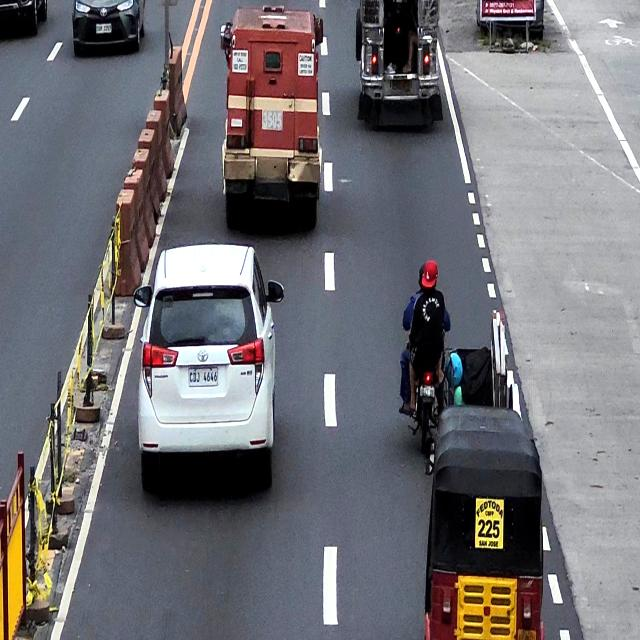Car: (133, 244, 283, 501), (222, 5, 325, 233)
E-bike: (423, 404, 543, 640)
Jeep: (354, 0, 442, 131)
License-Plate: (188, 369, 219, 388), (420, 385, 435, 398)
Tricycle: (407, 343, 522, 448)
